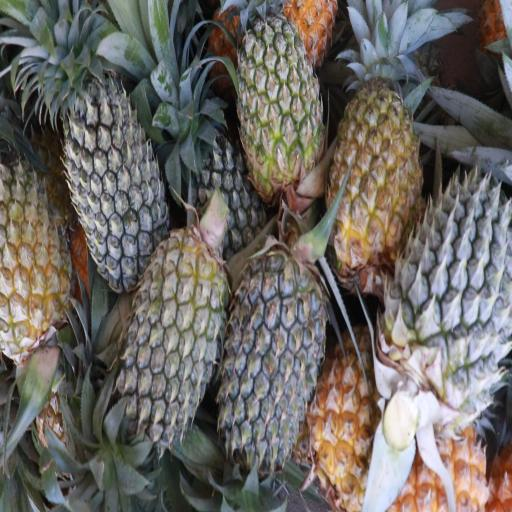------------------------------: (232, 2, 325, 193)
Pineapple - v8 v1: (328, 54, 422, 270), (310, 310, 390, 494), (0, 167, 73, 351)
